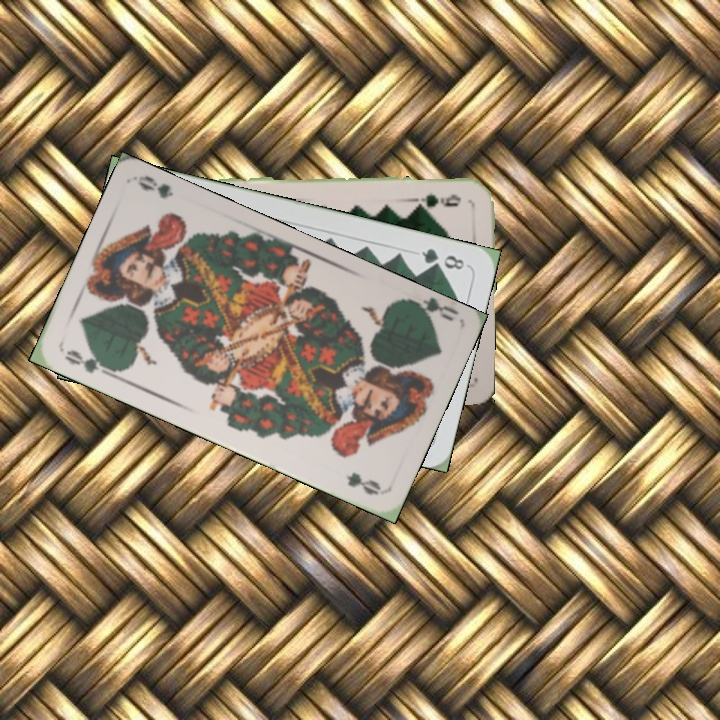G8: (417, 244, 467, 272)
G9: (412, 189, 463, 211)
GO: (401, 294, 459, 328), (60, 345, 116, 380)
